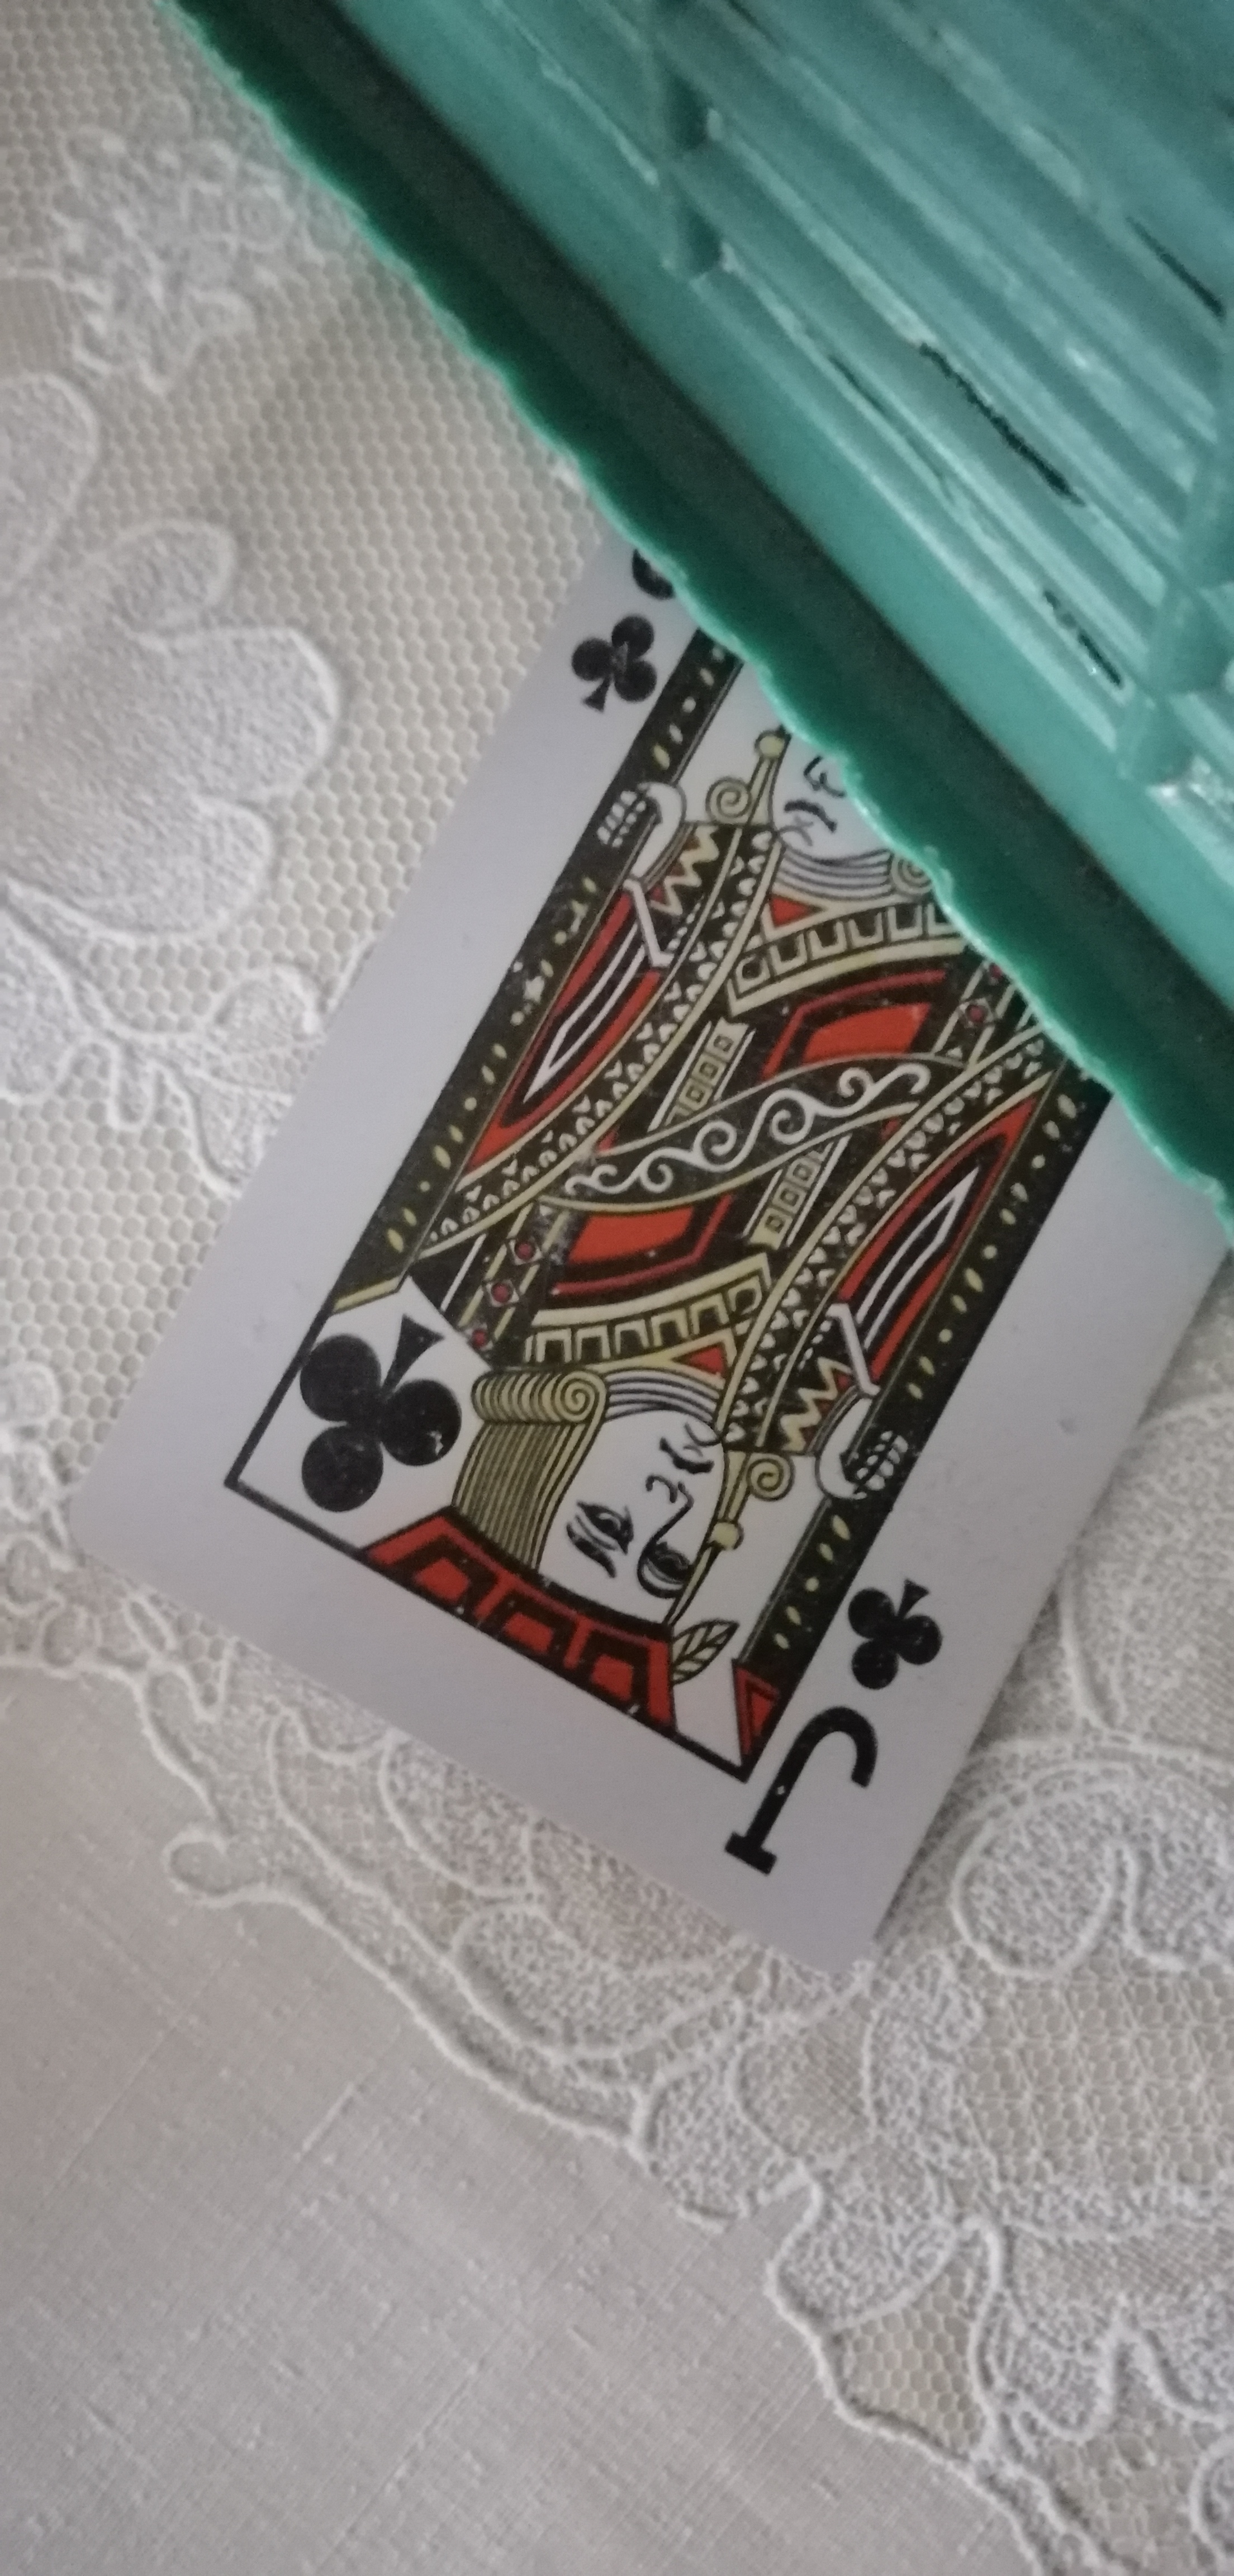jack: (125, 555, 1160, 1935)
